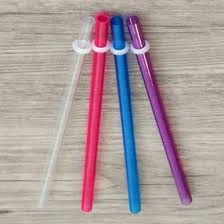drinking_straw: (124, 11, 197, 210), (32, 11, 100, 213), (104, 13, 148, 218), (77, 11, 113, 216)
